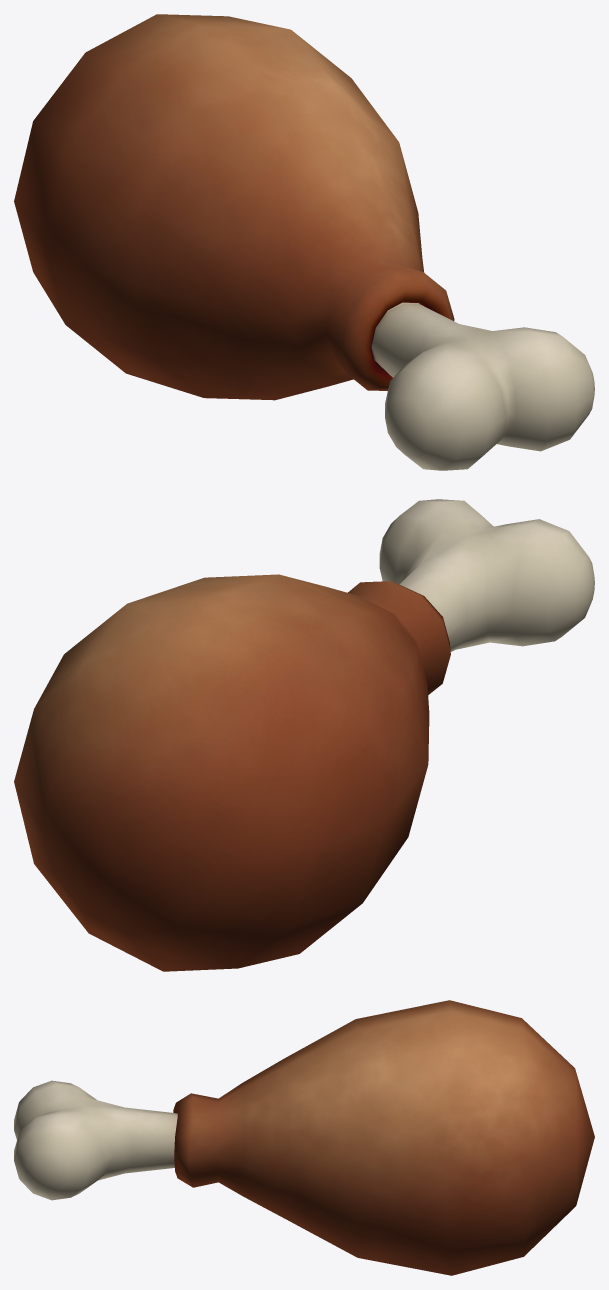
Rendered from ChickenLeg.FBX.
3 views of the same model, one above another, from view 1: azimuth 30°, elevation 25°; view 2: azimuth 150°, elevation 25°; view 3: azimuth 270°, elevation 25° (orthographic). The views are drawn at different scales.
Visible parts, largest first — view 1: ChickenLeg; view 2: ChickenLeg; view 3: ChickenLeg.
Part boxes in pixels (x1,y1,x2,y2): ChickenLeg: (14, 14, 594, 470); ChickenLeg: (14, 499, 594, 971); ChickenLeg: (14, 1000, 594, 1275).
Size of the model in its own units: 15.99 by 15.99 by 33.57.
Materials: 1 (1 with a texture image).
